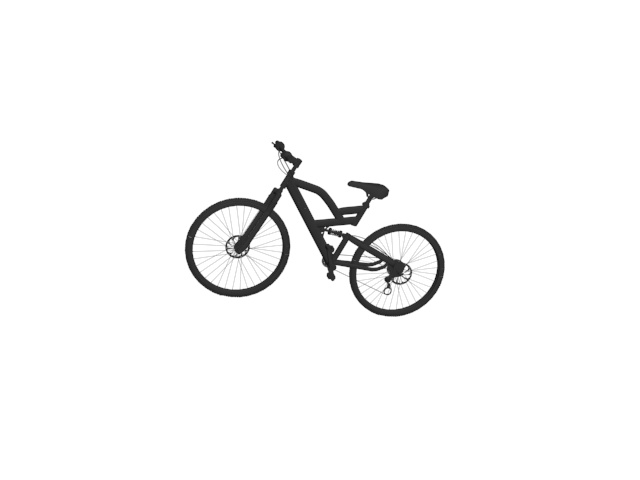bike: (185, 137, 448, 320)
